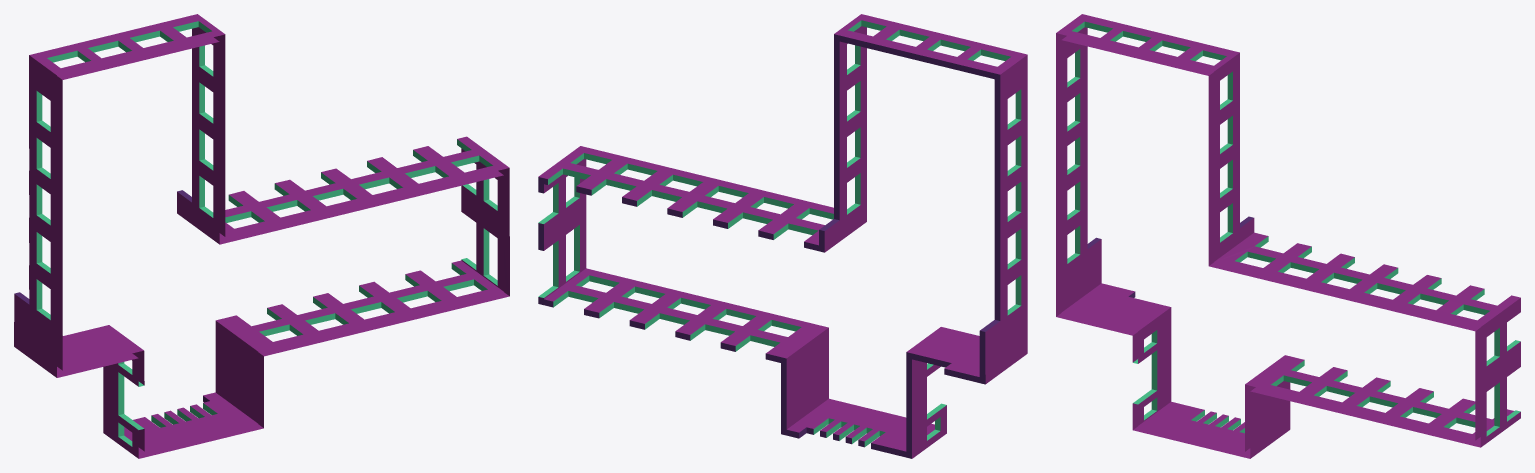
Rendered from Lasy_Państwowe Tier 1.fbx.
3 renders of one model, left to right at view 1: azimuth 30°, elevation 25°; view 2: azimuth 150°, elevation 25°; view 3: azimuth 330°, elevation 25°, orthographic. The views are drawn at different scales.
Parts seen in each view (by area): view 1: Lasy_Panstwowe; view 2: Lasy_Panstwowe; view 3: Lasy_Panstwowe.
Part boxes in pixels (left/top/right/bottom): Lasy_Panstwowe: left=14, top=14, right=509, bottom=458; Lasy_Panstwowe: left=538, top=14, right=1027, bottom=458; Lasy_Panstwowe: left=1056, top=14, right=1520, bottom=458.
Bounding box in the file's own units: 3.76 × 3.2 × 0.6159.
